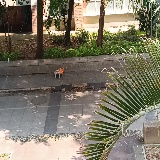fire: (58, 67, 64, 74)
